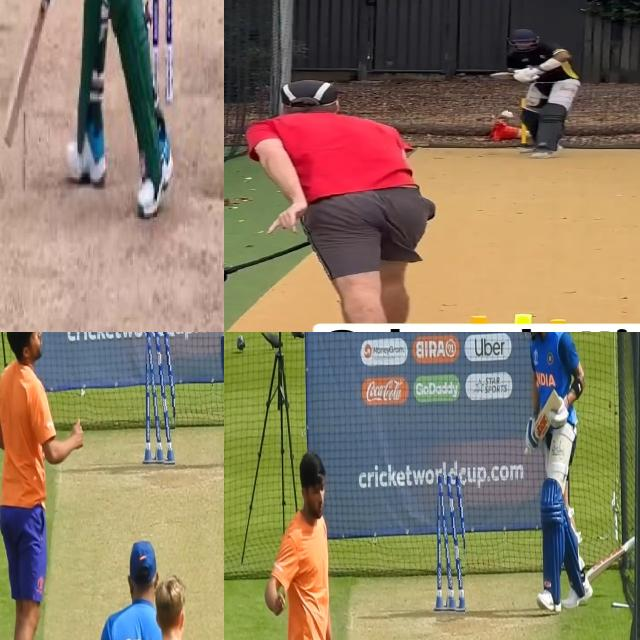Cricket ball: (500, 110, 514, 118)
Stumps: (434, 469, 465, 616), (143, 332, 175, 469)
